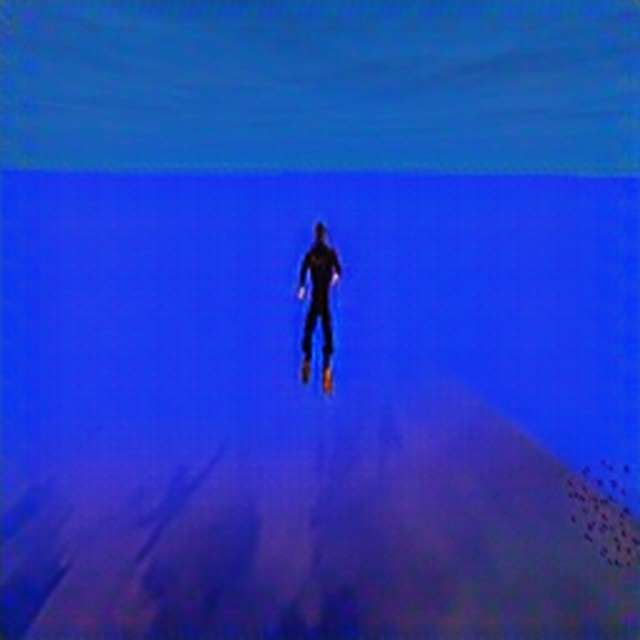diver: (294, 219, 343, 395)
